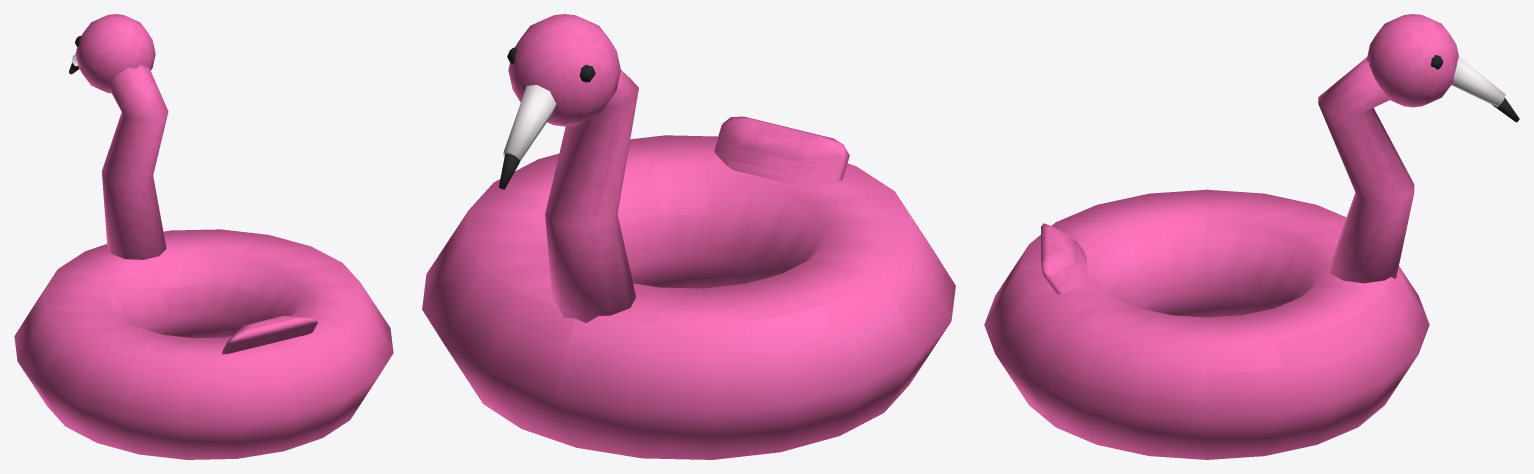
File: x_duck_flamingo.glb
3 views of the same model, side by side, from view 1: azimuth 30°, elevation 25°; view 2: azimuth 150°, elevation 25°; view 3: azimuth 270°, elevation 25° (orthographic). The views are drawn at different scales.
Parts seen in each view (by area): view 1: duck; view 2: duck; view 3: duck.
Part boxes in pixels (x1,y1,x2,y2): duck: (14,14,393,459); duck: (422,14,955,459); duck: (984,14,1519,459).
Bounding box in the file's own units: 1.62 × 1.46 × 1.95.
Materials: 3 (1 with a texture image).
